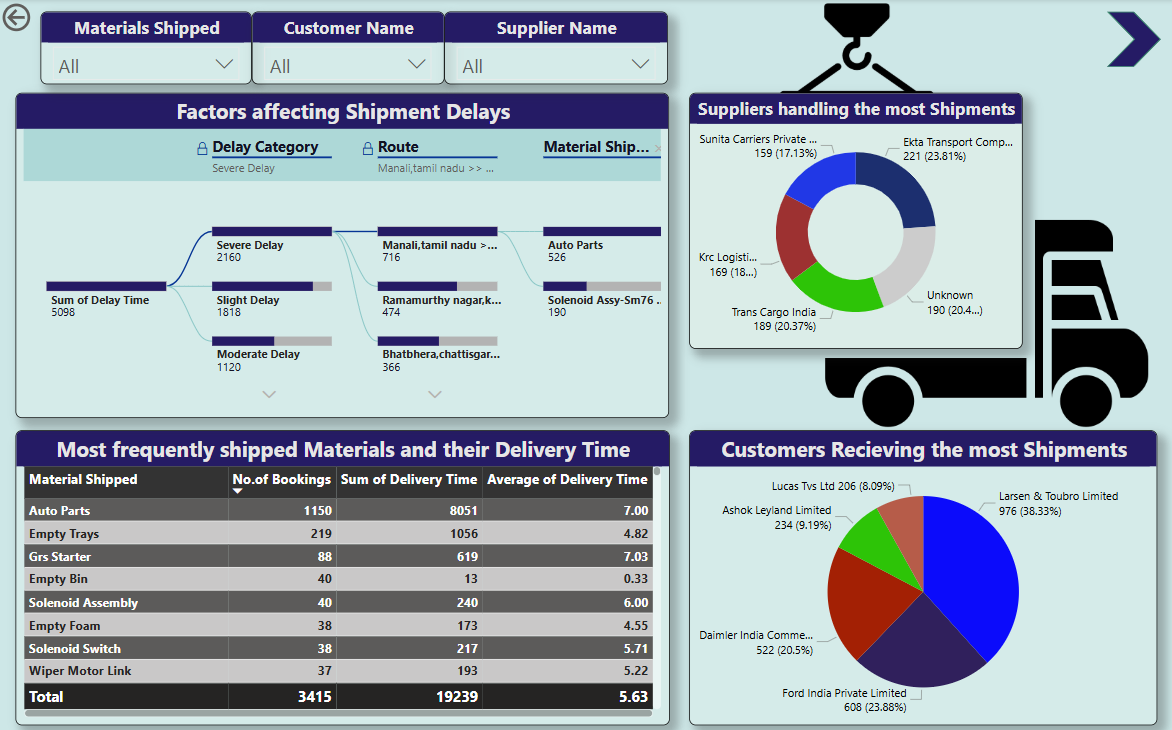

Layout of this report page (visuals, bound fields, positions):
{"tool":"powerbi","page":{"name":"Page 7","canvas":[1280,800],"ordinal":1},"visuals":[{"type":"pieChart","title":"Customers Recieving the most Shipments","fields":{"Category":["Data.Customer Name"],"Y":["Data.No.of Bookings"]},"box":[752,469.3,509.1,321.1],"z":0},{"type":"tableEx","title":"Most frequently shipped Materials and their Delivery Time","fields":{"Values":["Data.Material Shipped","Data.No.of Bookings","Sum(Data.Delivery Time 1)","Avg(Data.Delivery Time 1)"]},"box":[19.2,469.3,710.8,321.1],"z":1000},{"type":"image","box":[830.2,0,205.8,183.9],"z":2000},{"type":"decompositionTreeVisual","title":"Factors affecting Shipment Delays","fields":{"ExplainBy":["Data.Delay Category","Data.Route","Data.Material Shipped"],"Analyze":["Sum(Data.Delay Time 1)"]},"box":[19,101.9,710.6,353.3],"z":3000},{"type":"image","box":[870,146.8,410.3,411.7],"z":4000},{"type":"donutChart","title":"Suppliers handling the most Shipments","fields":{"Category":["Data.Supplier Name"],"Y":["Data.No.of Bookings"]},"box":[752,101.5,362.3,278.6],"z":5000},{"type":"shape","box":[1205.5,13.7,58.9,60.3],"z":6000},{"type":"actionButton","box":[0,0,100,40],"z":7000},{"type":"slicer","title":"Materials Shipped","fields":{"Values":["Data.Material Shipped"]},"box":[46.2,13.6,229.6,78.8],"z":8000},{"type":"slicer","title":"Customer Name","fields":{"Values":["Data.Customer Name"]},"box":[275.8,13.6,209.2,78.8],"z":9000},{"type":"slicer","title":"Supplier Name","fields":{"Values":["Data.Supplier Name"]},"box":[485.1,13.6,243.2,78.8],"z":10000}]}

Visuals, with their boxes in screenshot pixels (x1, y1, x2, y2), scaled from the page's 1280x800 canvas onto the 1172x730 screenshot:
"Customers Recieving the most Shipments" pieChart: left=689, top=428, right=1155, bottom=721
"Most frequently shipped Materials and their Delivery Time" tableEx: left=18, top=428, right=668, bottom=721
image: left=760, top=0, right=949, bottom=168
"Factors affecting Shipment Delays" decompositionTreeVisual: left=17, top=93, right=668, bottom=415
image: left=797, top=134, right=1171, bottom=510
"Suppliers handling the most Shipments" donutChart: left=689, top=93, right=1020, bottom=347
shape: left=1104, top=13, right=1158, bottom=68
actionButton: left=0, top=0, right=92, bottom=36
"Materials Shipped" slicer: left=42, top=12, right=253, bottom=84
"Customer Name" slicer: left=253, top=12, right=444, bottom=84
"Supplier Name" slicer: left=444, top=12, right=667, bottom=84
